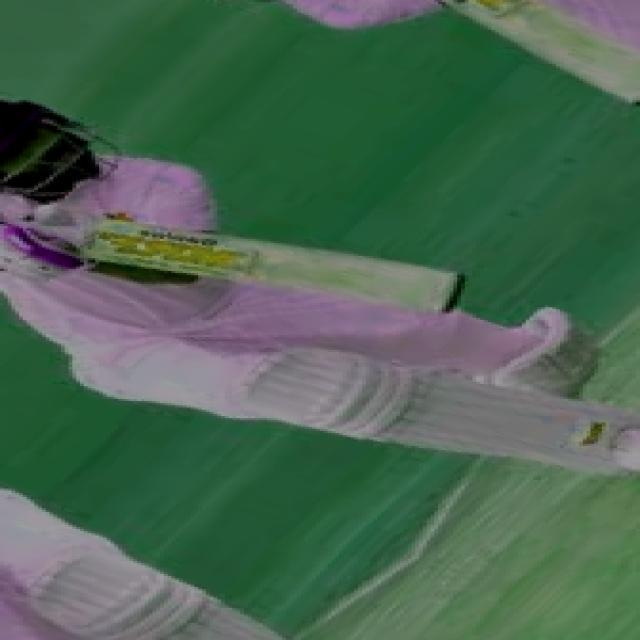bat: (50, 207, 480, 328)
toe: (436, 270, 466, 316)
